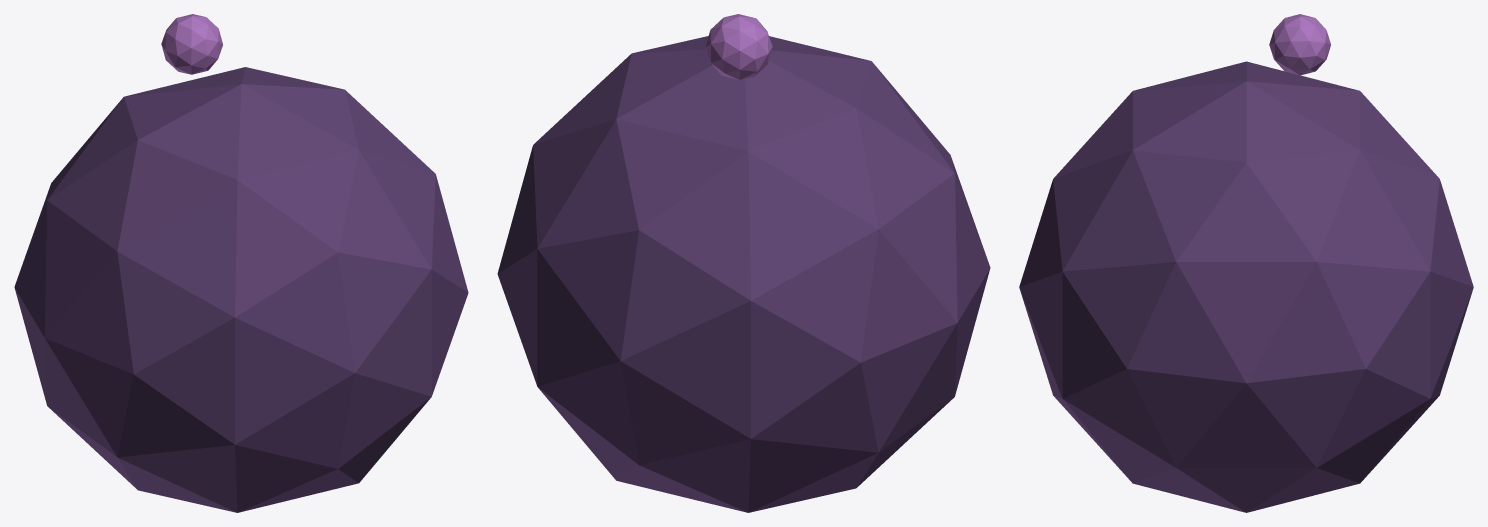
File: deep_nightmare_horror.glb
3 renders of one model, left to right at view 1: azimuth 30°, elevation 25°; view 2: azimuth 150°, elevation 25°; view 3: azimuth 270°, elevation 25°, orthographic. The views are drawn at different scales.
Parts seen in each view (by area): view 1: geometry_0; view 2: geometry_0; view 3: geometry_0.
Boxes of the visible parts, x1,y1,x2,y2 form: geometry_0: (14, 14, 468, 512); geometry_0: (497, 14, 990, 512); geometry_0: (1019, 14, 1473, 512).
Bounding box in the file's own units: 0.88 × 0.9944 × 0.88.
